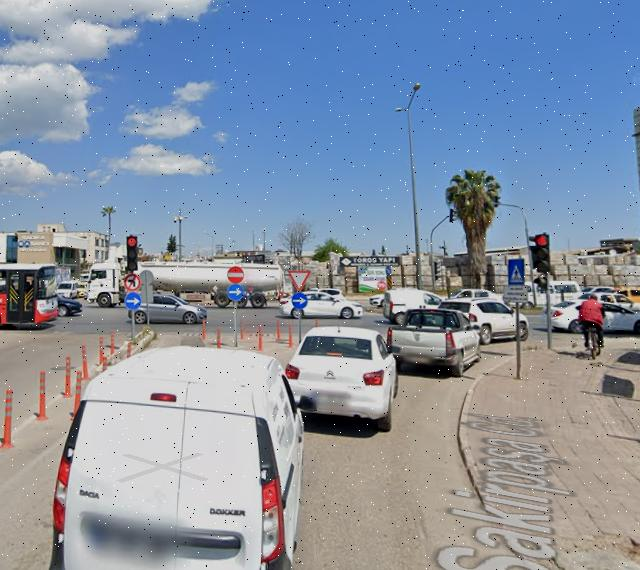leftturnsareforbidden: (125, 274, 140, 290)
redlight: (533, 233, 552, 273), (127, 235, 138, 270)
turnright: (124, 292, 142, 310), (228, 284, 244, 300), (292, 293, 307, 309)
